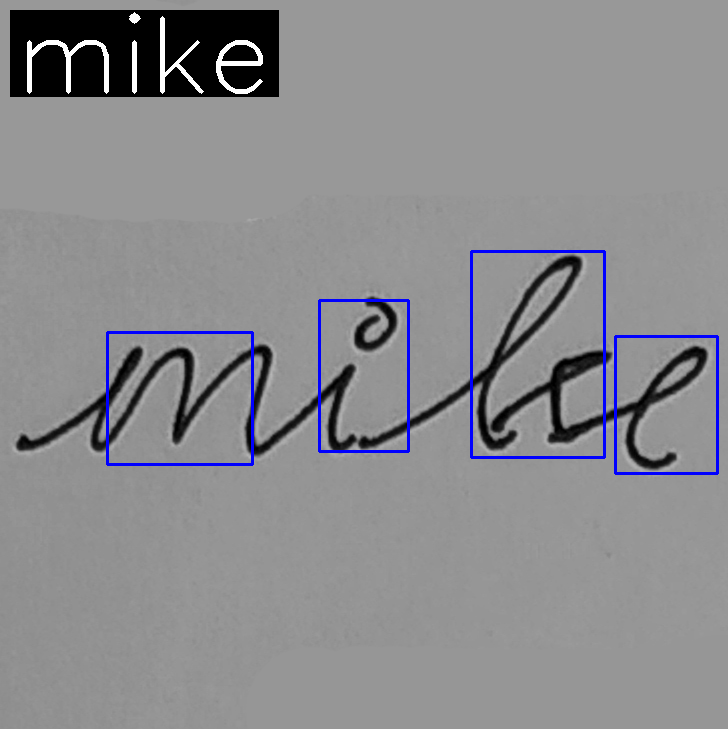e: (620, 344, 711, 474)
i: (321, 292, 400, 454)
k: (472, 251, 616, 453)
m: (85, 339, 276, 457)
